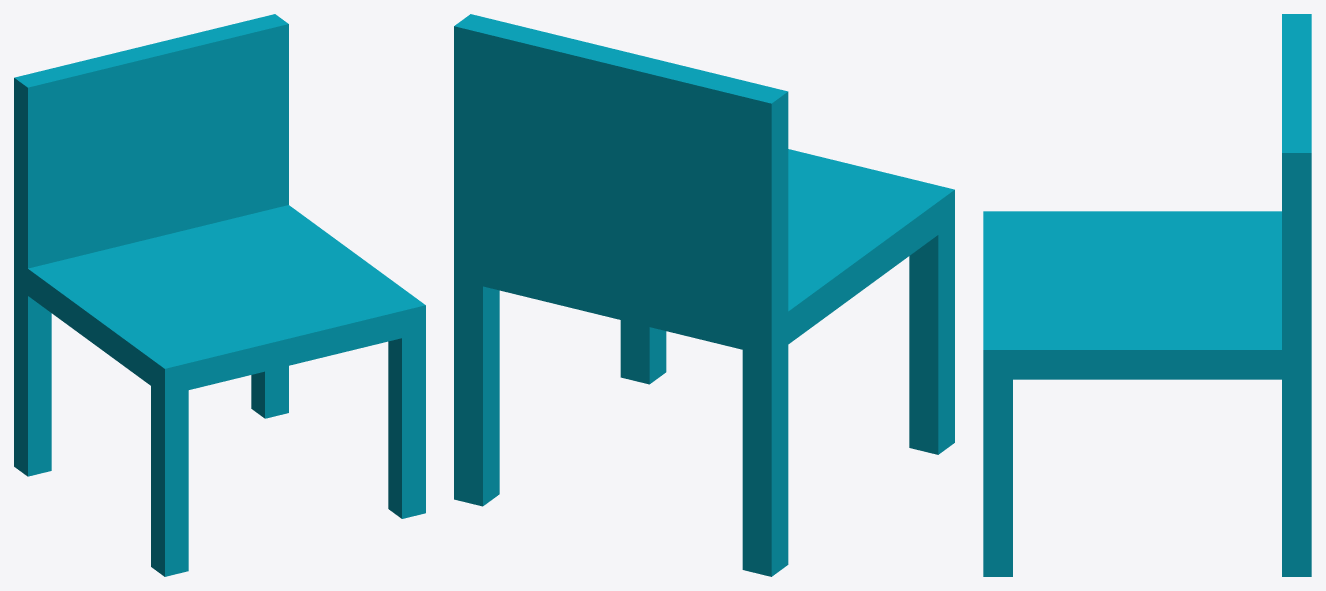
File: chair2.gltf
The picture shows the model from 3 angles, left to right: view 1: azimuth 30°, elevation 25°; view 2: azimuth 150°, elevation 25°; view 3: azimuth 270°, elevation 25°; orthographic projection. The views are drawn at different scales.
Visible parts, largest first — view 1: Mesh_Mesh_head_geo.001_lambert2SG.001; view 2: Mesh_Mesh_head_geo.001_lambert2SG.001; view 3: Mesh_Mesh_head_geo.001_lambert2SG.001.
Boxes of the visible parts, box(x1,y1,x2,y2) form: Mesh_Mesh_head_geo.001_lambert2SG.001: box(14, 14, 425, 576); Mesh_Mesh_head_geo.001_lambert2SG.001: box(454, 14, 954, 576); Mesh_Mesh_head_geo.001_lambert2SG.001: box(983, 14, 1311, 576).
Size of the model in its own units: 33 by 47 by 33.
